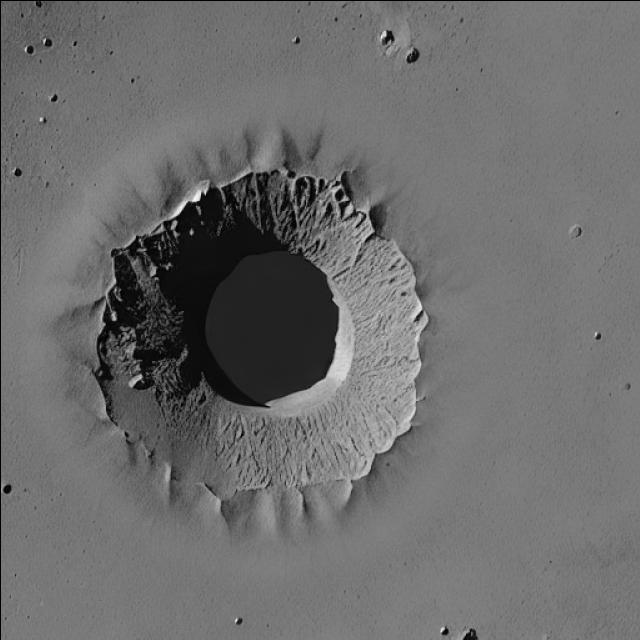crater: (94, 170, 428, 500)
